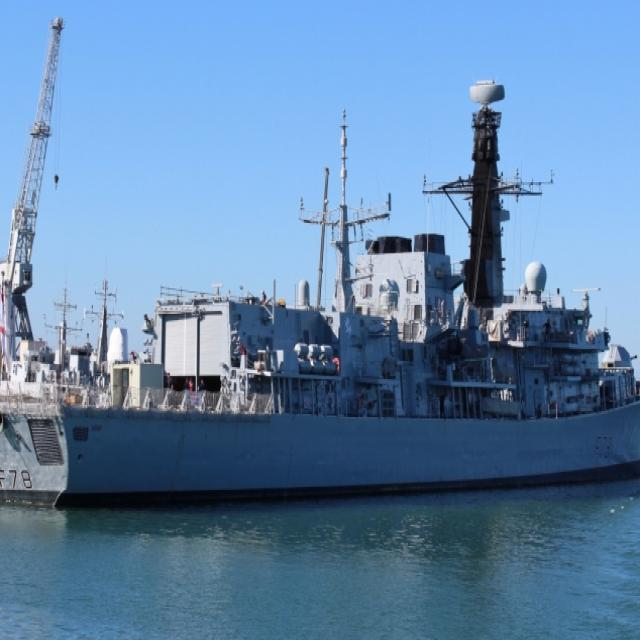Fragata: (1, 71, 640, 517)
